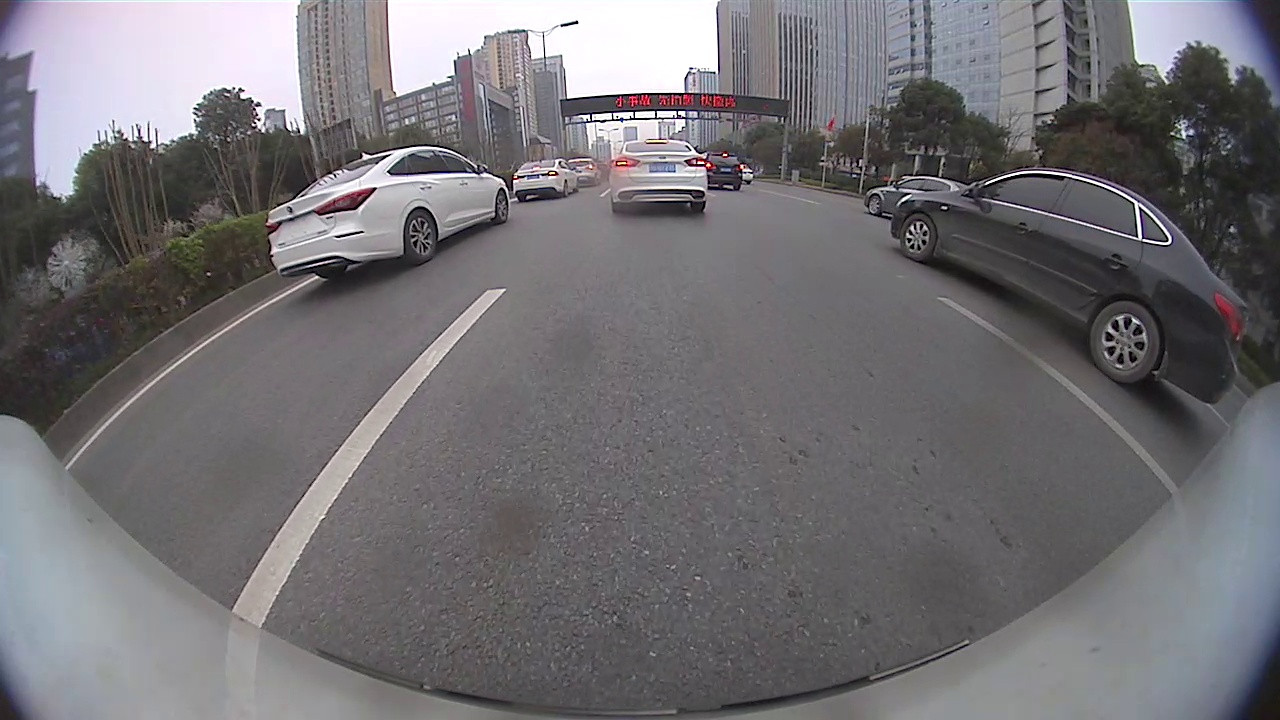car: (889, 164, 1249, 407), (264, 145, 510, 279), (608, 139, 708, 215), (864, 175, 970, 217), (513, 157, 578, 202), (704, 151, 742, 191), (565, 156, 602, 188)
front: (899, 215, 939, 265), (494, 186, 510, 226), (865, 193, 883, 217)
rear: (1091, 301, 1162, 385), (407, 208, 441, 265), (562, 180, 569, 199)
